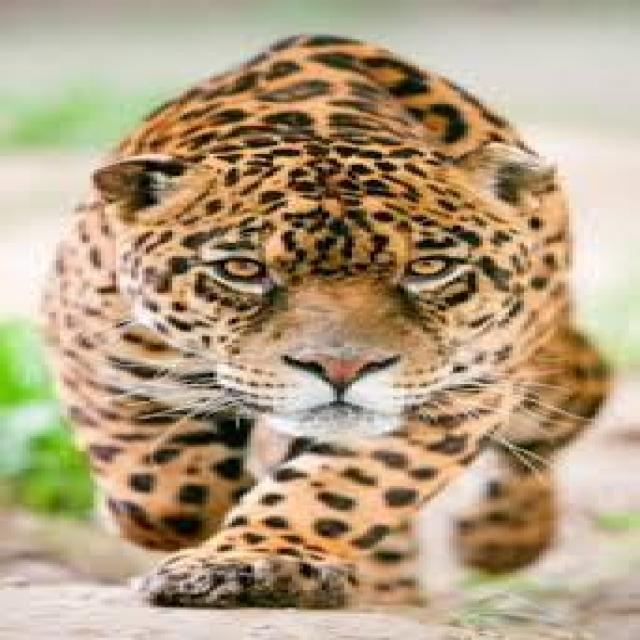Jaguar: (34, 31, 606, 594)
